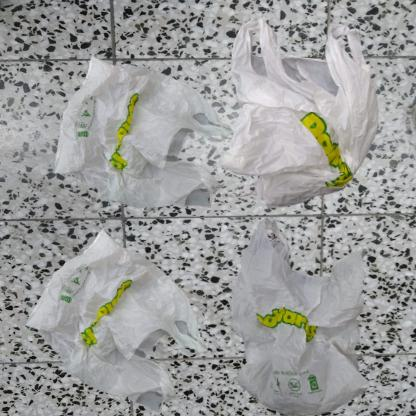bolsa: (10, 10, 293, 299), (10, 213, 223, 416), (213, 10, 395, 226), (213, 213, 404, 416)
